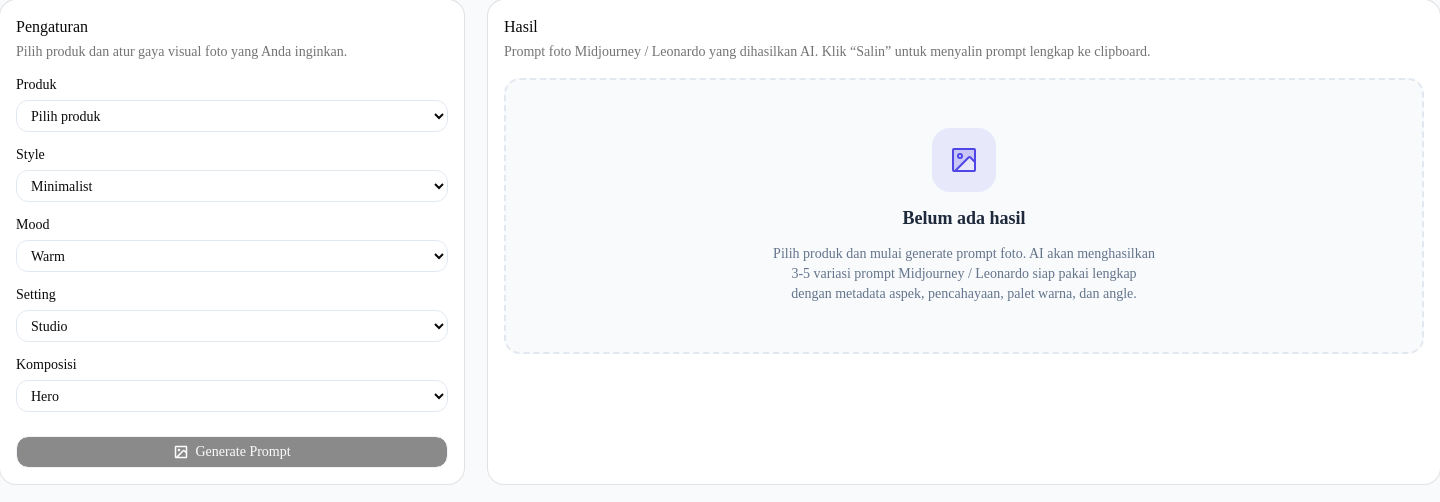
PhotoGenerator › shows error message in the result panel when generatePhotoPrompts returns an error
This screenshot has width=1440, height=502.
Select "Sample Product A" in the dropdown labelled "Produk" at (232, 116), box 16,100 -> 448,132
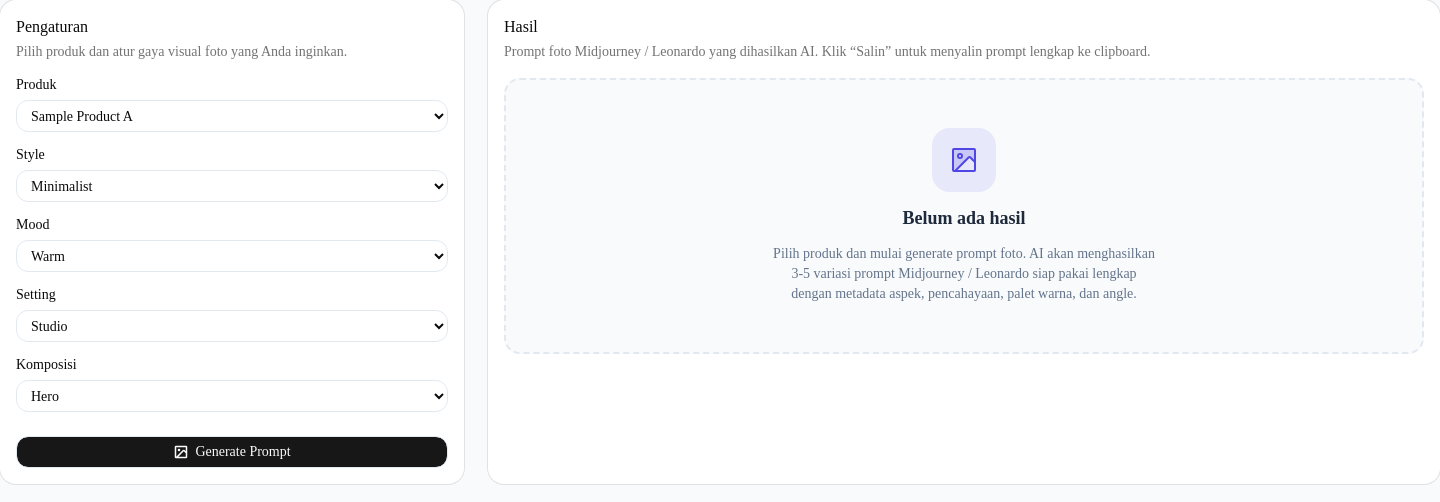
Click the button "Generate Prompt" at (232, 452), box 16,436 -> 448,468
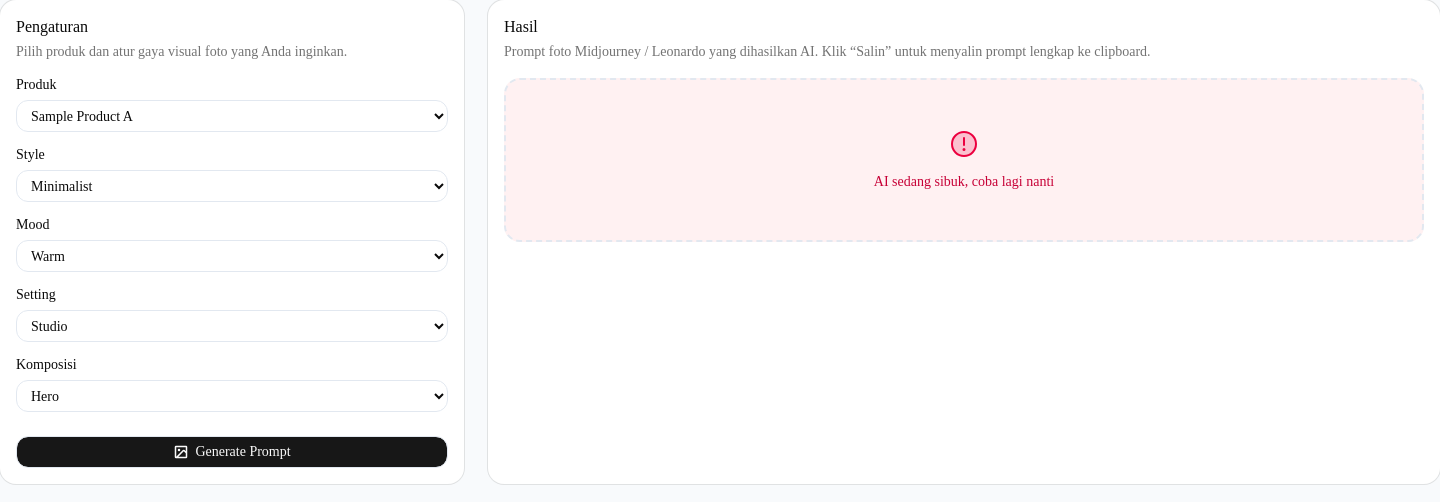
Expected: the element with test id "photo-error" is shown, 504,78 -> 1424,242
Expected: the text "AI sedang sibuk, coba lagi nanti" is shown, 874,172 -> 1054,192
